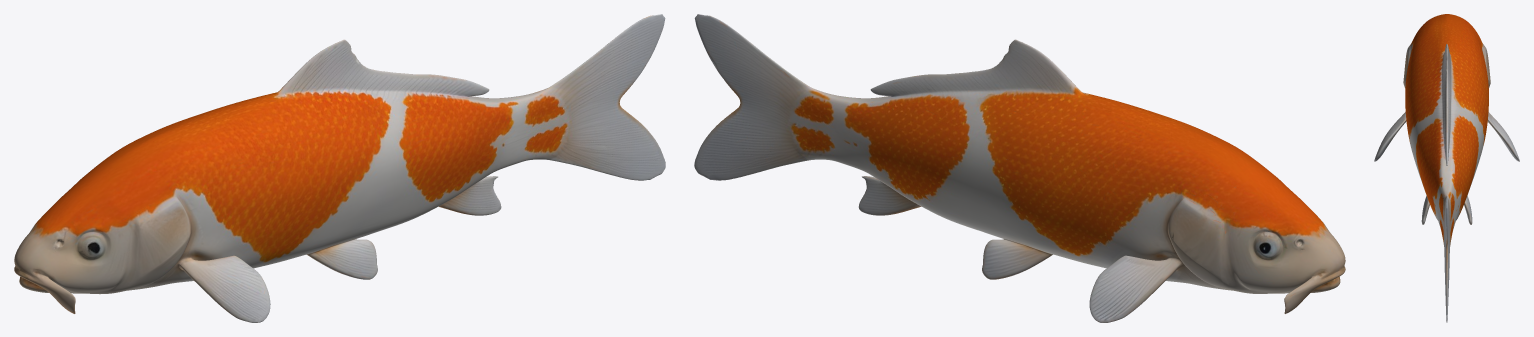
The model's file is koi1.glb.
The picture shows the model from 3 angles, left to right: view 1: azimuth 30°, elevation 25°; view 2: azimuth 150°, elevation 25°; view 3: azimuth 270°, elevation 25°; orthographic projection. The views are drawn at different scales.
Parts seen in each view (by area): view 1: material; view 2: material; view 3: material.
Part boxes in pixels (x1,y1,x2,y2): material: (14,14,665,322); material: (694,14,1345,322); material: (1374,14,1519,322).
Bounding box in the file's own units: 1.16 × 0.3936 × 0.3005.
1 material, 1 textured.
